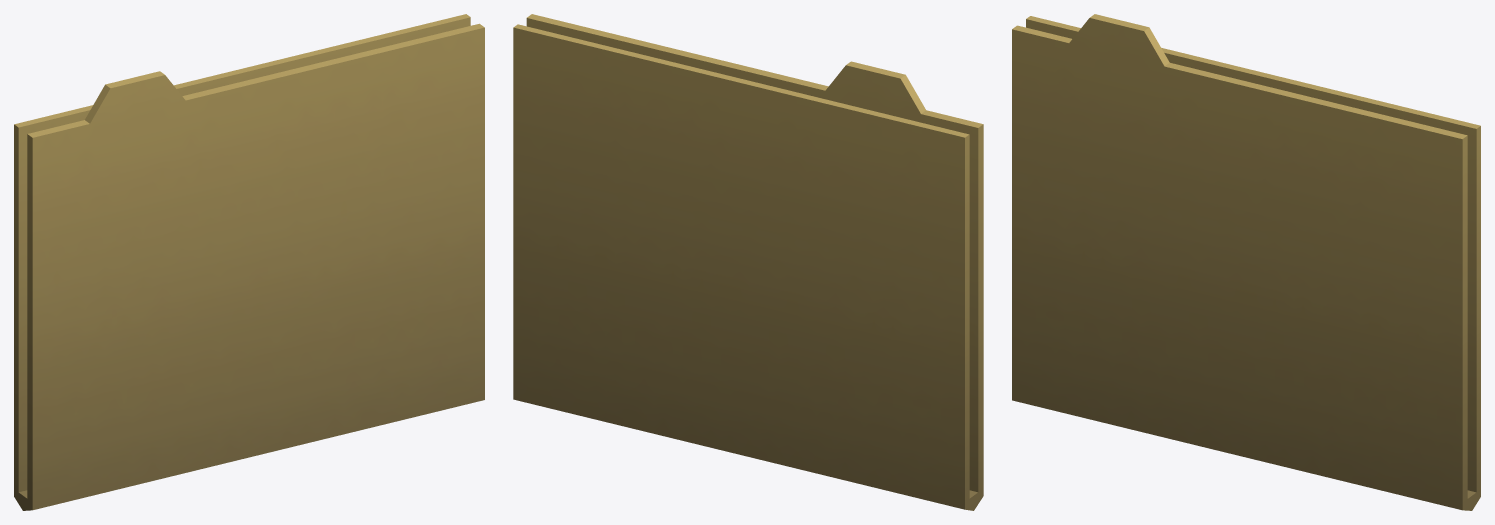
Rendered from Paper_FilingFolder_Yellow.fbx.
The picture shows the model from 3 angles, left to right: view 1: azimuth 30°, elevation 25°; view 2: azimuth 150°, elevation 25°; view 3: azimuth 330°, elevation 25°; orthographic projection.
Visible parts, largest first — view 1: Paper_FilingFolder_Yellow; view 2: Paper_FilingFolder_Yellow; view 3: Paper_FilingFolder_Yellow.
Boxes of the visible parts, <box> form: Paper_FilingFolder_Yellow: <box>14,14,484,510</box>; Paper_FilingFolder_Yellow: <box>513,14,983,510</box>; Paper_FilingFolder_Yellow: <box>1012,14,1480,510</box>.
Bounding box in the file's own units: 30.06 × 26.09 × 2.13.
